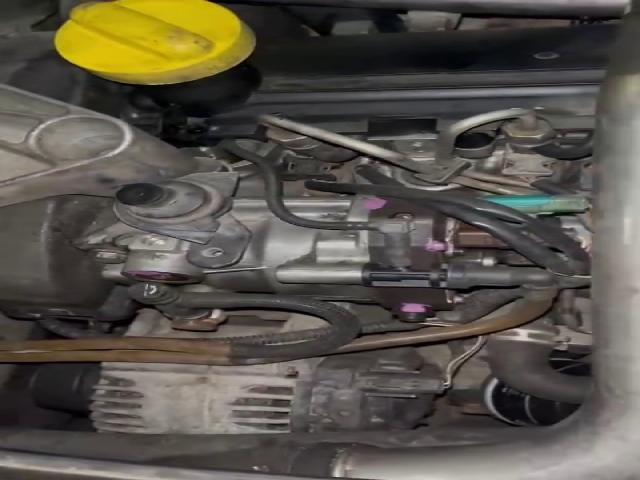alternator: (89, 344, 456, 434)
high_pressure_pump: (98, 190, 497, 323)
